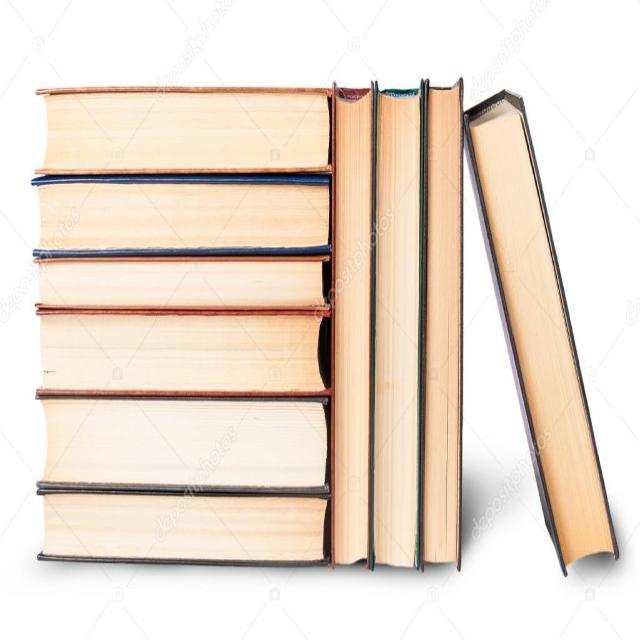Books: (464, 90, 619, 575), (42, 401, 326, 489), (40, 90, 329, 174), (374, 90, 422, 566), (39, 311, 324, 391), (37, 176, 329, 252), (41, 493, 328, 564), (332, 88, 374, 564), (422, 80, 462, 570), (39, 256, 328, 309)
